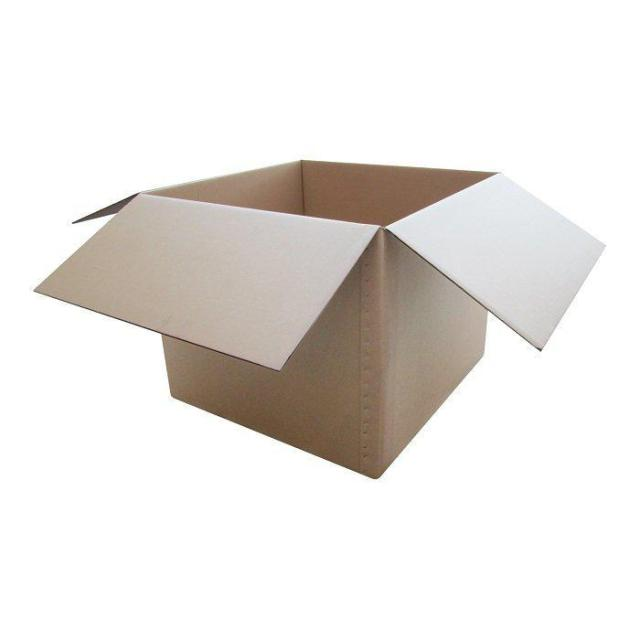Garbage: (32, 158, 606, 479)
